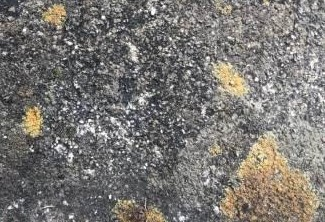Corrosion: (218, 133, 320, 222), (207, 59, 248, 100), (110, 197, 165, 222), (21, 105, 43, 138), (39, 2, 67, 27)
